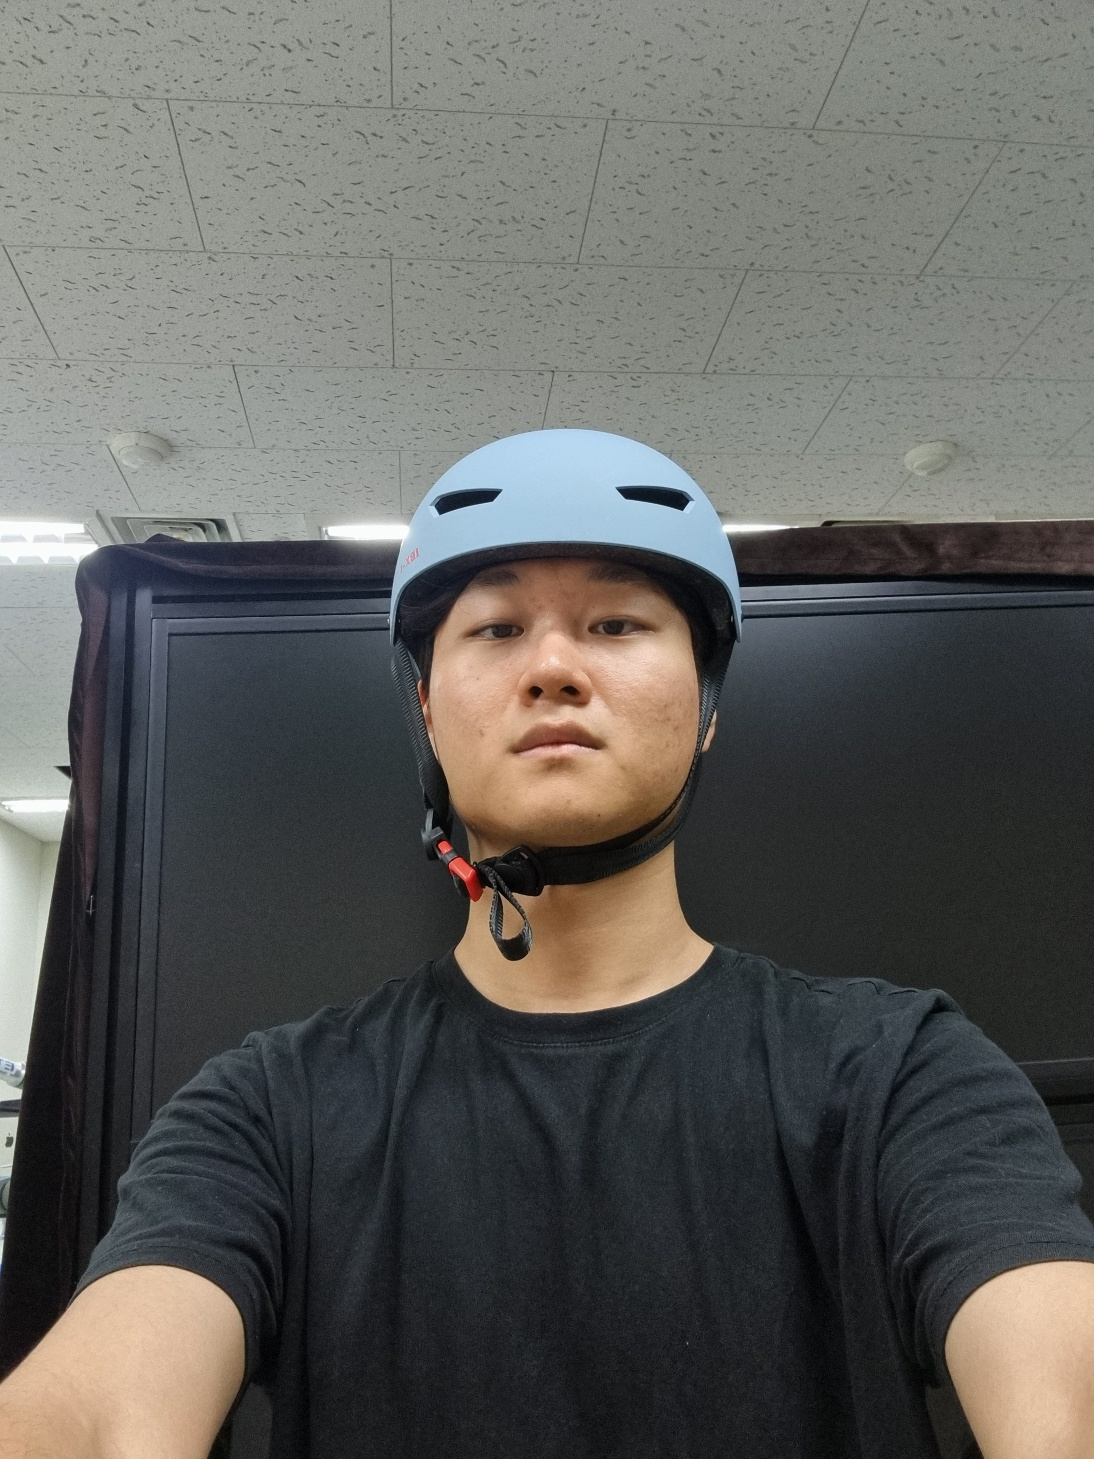Helmet: (347, 384, 787, 919)
